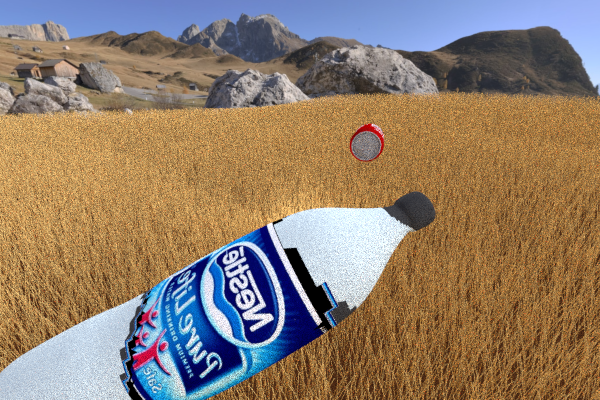bottle: (0, 191, 435, 400)
can: (70, 112, 125, 142), (349, 123, 384, 161)
